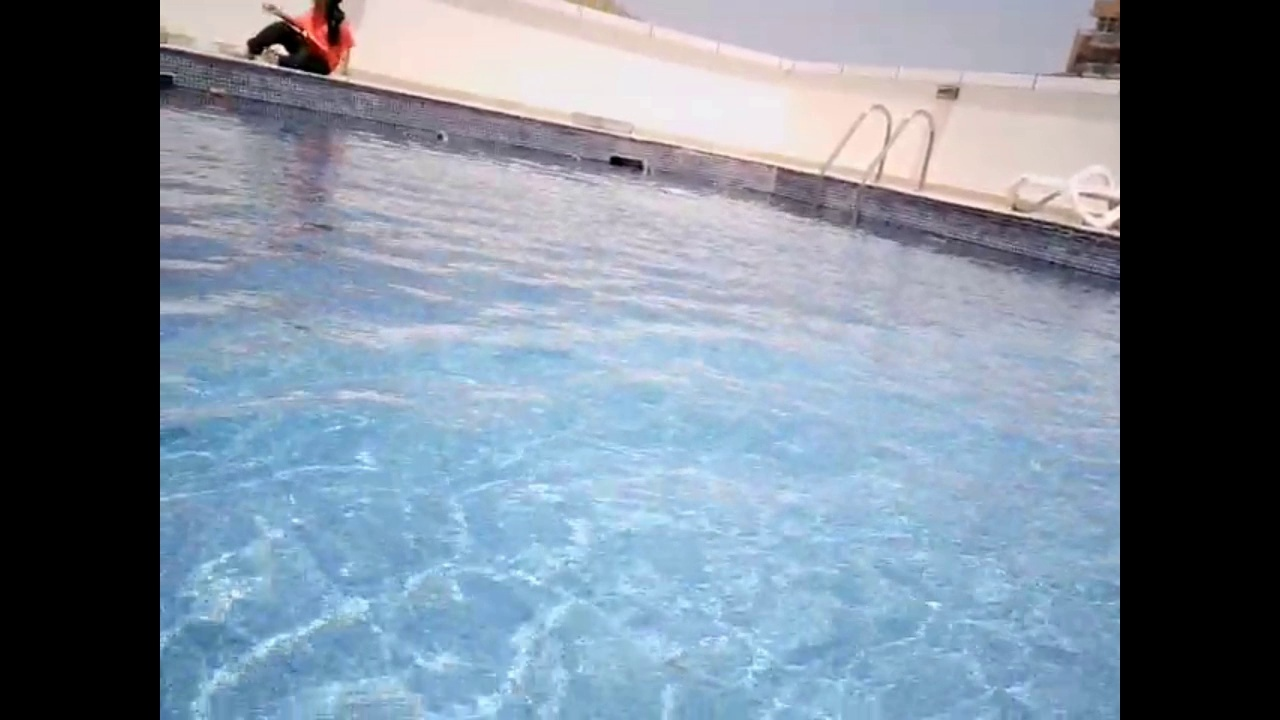debris: (202, 83, 234, 103), (429, 123, 453, 147), (568, 149, 587, 166)
